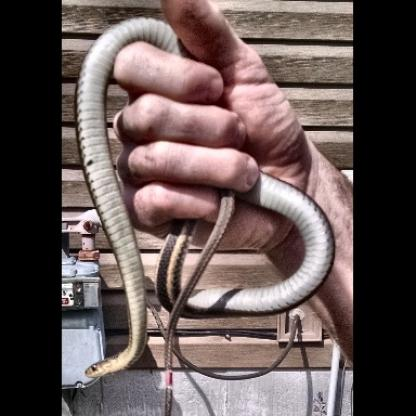Snake: (76, 19, 318, 384)
